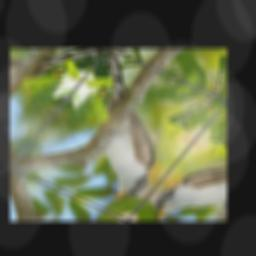Cuckoo: (16, 50, 221, 213)
